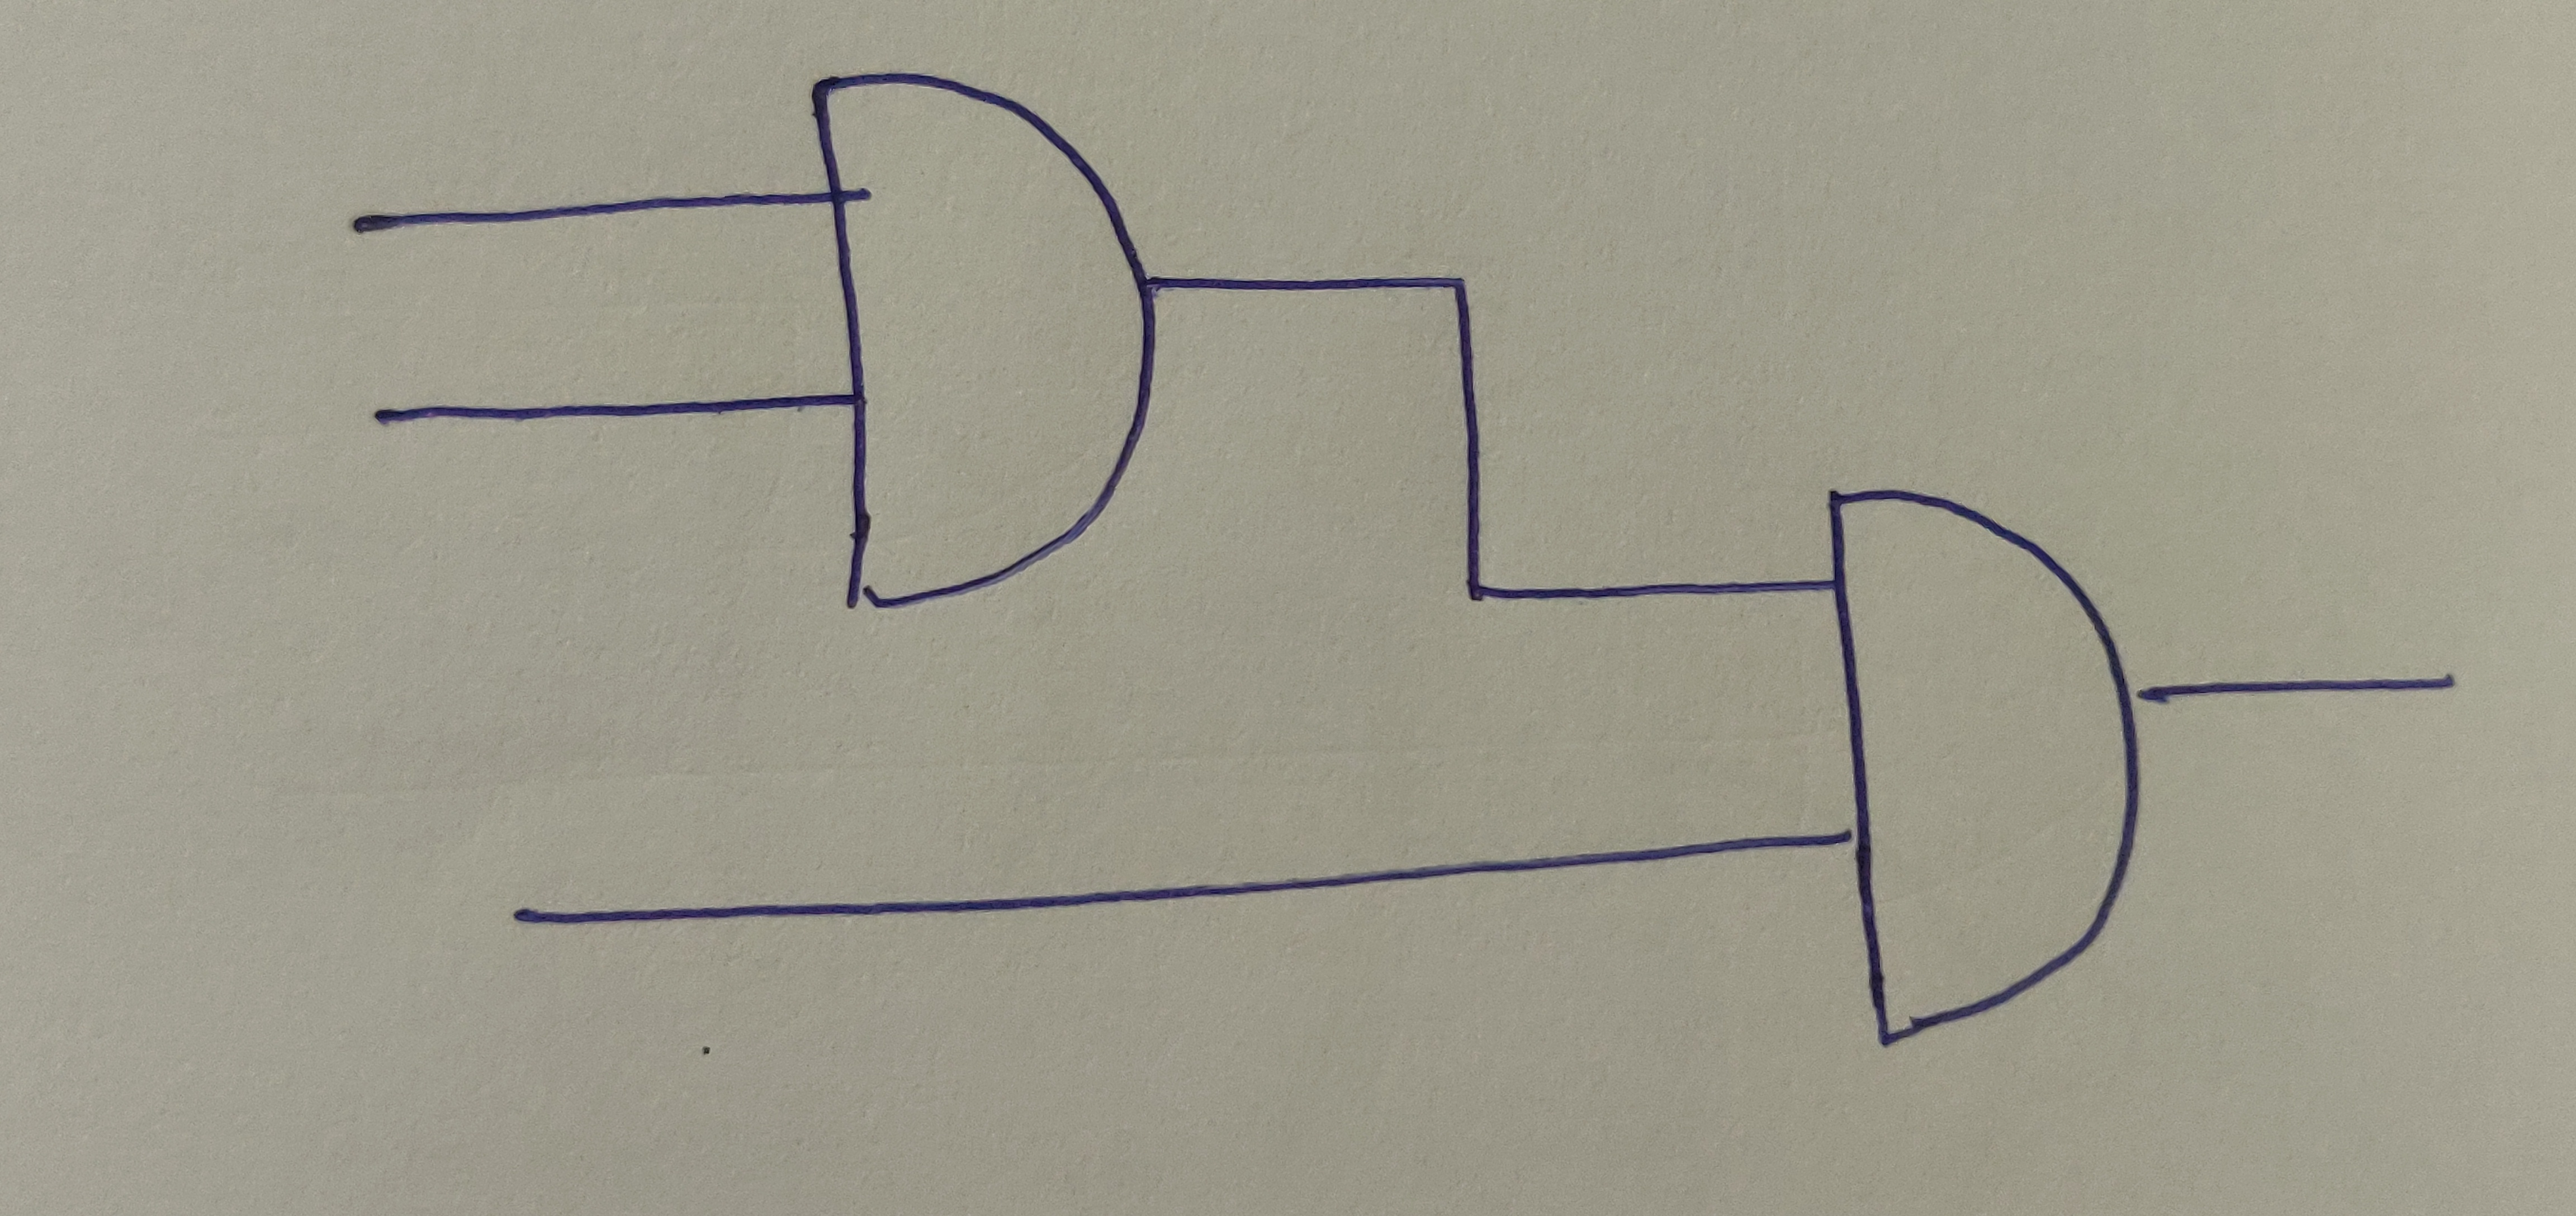and: (808, 69, 1153, 618), (1820, 485, 2144, 1043)
